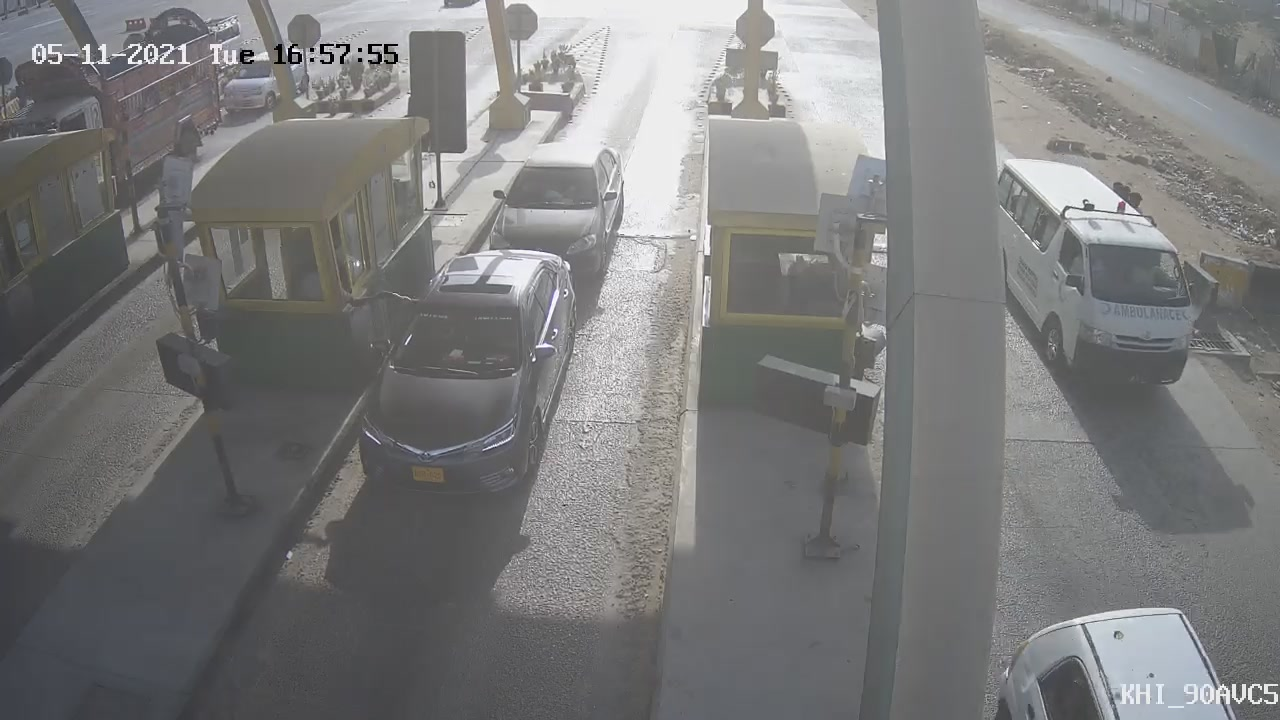F1: (330, 230, 596, 526), (473, 126, 643, 309)
